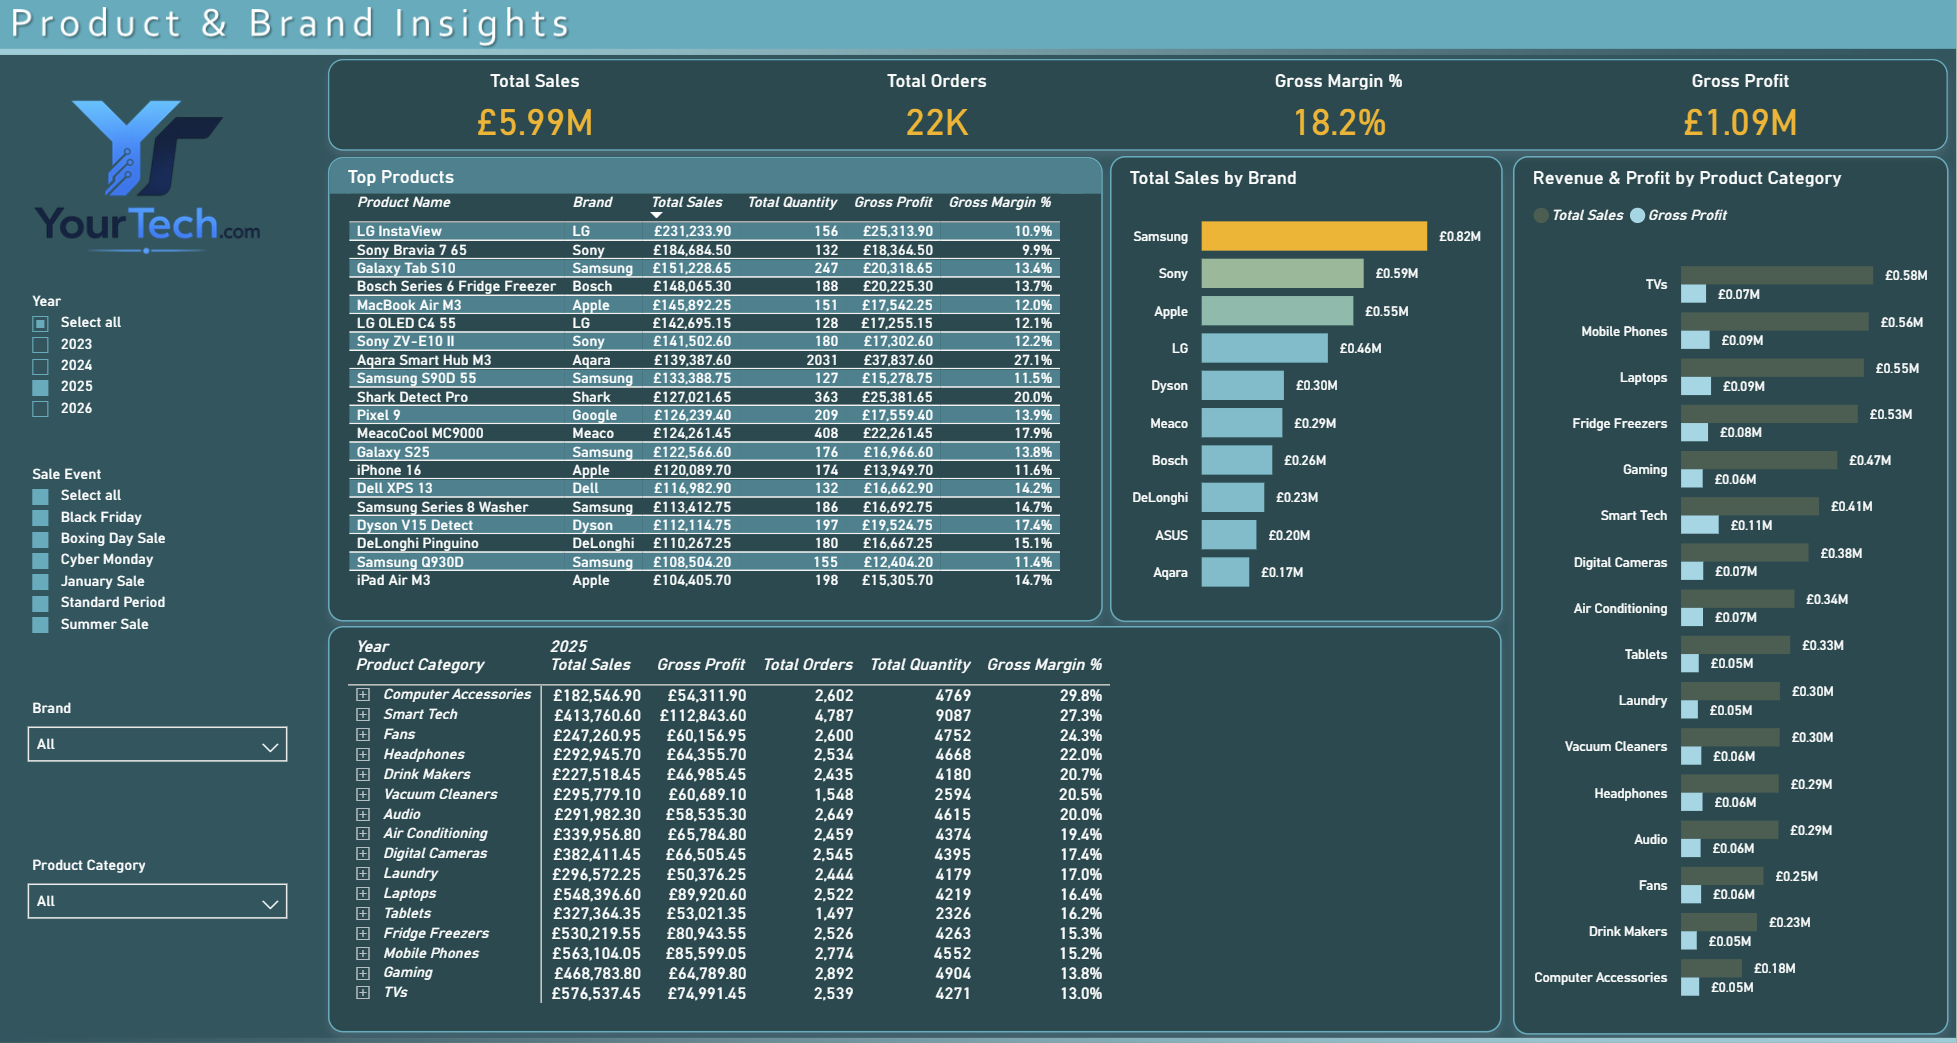

What the dashboard file says about the page in this screenshot:
{"tool":"powerbi","page":{"name":"Product & Brand Insights","canvas":[1280,720],"ordinal":4},"visuals":[{"type":"clusteredBarChart","title":"Revenue & Profit by Product Category","fields":{"Y":["_Measures.Total Sales","_Measures.Gross Profit"],"Category":["dProducts.Product Category"]},"box":[990.1,103.4,284.7,574.6],"z":0},{"type":"cardVisual","fields":{"Data":["_Measures.Total Sales","_Measures.Total Orders","_Measures.Profit Margin %","_Measures.Gross Profit"]},"box":[491.1,39.7,783.9,60.6],"z":1000},{"type":"barChart","fields":{"Category":["dProducts.Brand"],"Y":["_Measures.Total Sales"]},"box":[716.1,103.1,266.8,305],"z":2000},{"type":"tableEx","title":"Top Products","fields":{"Values":["dProducts.Product Name","dProducts.Brand","_Measures.Total Sales","_Measures.Total Quantity","_Measures.Gross Profit","_Measures.Gross Margin %"]},"box":[214.9,103.8,495.4,304.3],"z":3000},{"type":"pivotTable","fields":{"Rows":["dProducts.Product Category","dProducts.Brand","dProducts.Product Name"],"Columns":["dDate.Year"],"Values":["_Measures.Total Sales","_Measures.Gross Profit","_Measures.Total Orders","_Measures.Total Quantity"]},"box":[214.6,412.3,768.3,265.7],"z":4000},{"type":"slicer","fields":{"Values":["dDate.Year"]},"box":[13,192.5,179.6,90.1],"z":5000},{"type":"slicer","fields":{"Values":["dSale Event.Sale_Event_Name"]},"box":[13.1,303.6,179.3,130.9],"z":6000},{"type":"slicer","fields":{"Values":["dProducts.Brand"]},"box":[13,457.9,180.3,80],"z":7000},{"type":"slicer","fields":{"Values":["dProducts.Product Category"]},"box":[13,561.8,180.3,42.5],"z":8000},{"type":"actionButton","box":[0,684.3,100.2,35.2],"z":9000}]}

Visuals, with their boxes on the page's 1280x720 design canvas (x1, y1, x2, y2). These are canvas units, not pixel positions in the 1957x1043 screenshot, which may show the page scaled, cropped or inside an application window:
"Revenue & Profit by Product Category" clusteredBarChart: bbox=[990, 103, 1275, 678]
cardVisual - _Measures.Total Sales x _Measures.Total Orders: bbox=[491, 40, 1275, 100]
barChart - dProducts.Brand x _Measures.Total Sales: bbox=[716, 103, 983, 408]
"Top Products" tableEx: bbox=[215, 104, 710, 408]
pivotTable - dProducts.Product Category x dProducts.Brand: bbox=[215, 412, 983, 678]
slicer - dDate.Year: bbox=[13, 192, 193, 283]
slicer - dSale Event.Sale_Event_Name: bbox=[13, 304, 192, 434]
slicer - dProducts.Brand: bbox=[13, 458, 193, 538]
slicer - dProducts.Product Category: bbox=[13, 562, 193, 604]
actionButton: bbox=[0, 684, 100, 720]
